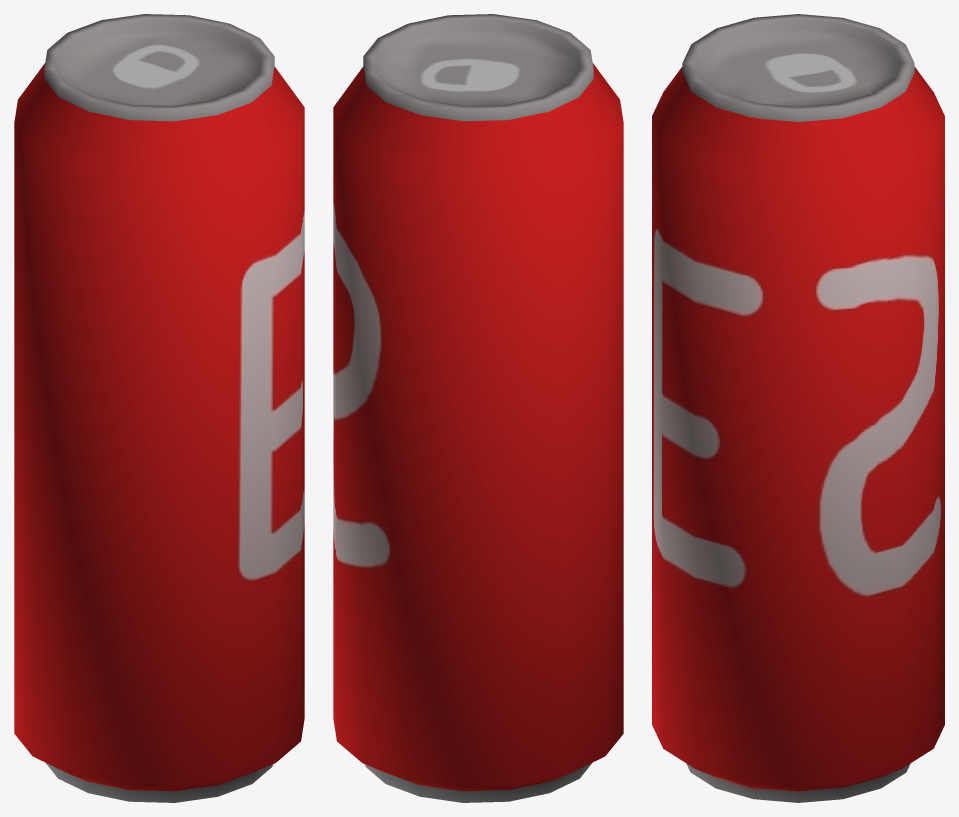
The picture shows the model from 3 angles, left to right: view 1: azimuth 30°, elevation 25°; view 2: azimuth 150°, elevation 25°; view 3: azimuth 270°, elevation 25°; orthographic projection.
Visible parts, largest first — view 1: ES; view 2: ES; view 3: ES.
Part boxes in pixels (<box>): ES: <box>14,14,304,802</box>; ES: <box>333,14,623,802</box>; ES: <box>652,14,944,802</box>.
Size of the model in its own units: 5.56 by 14.47 by 5.56.
